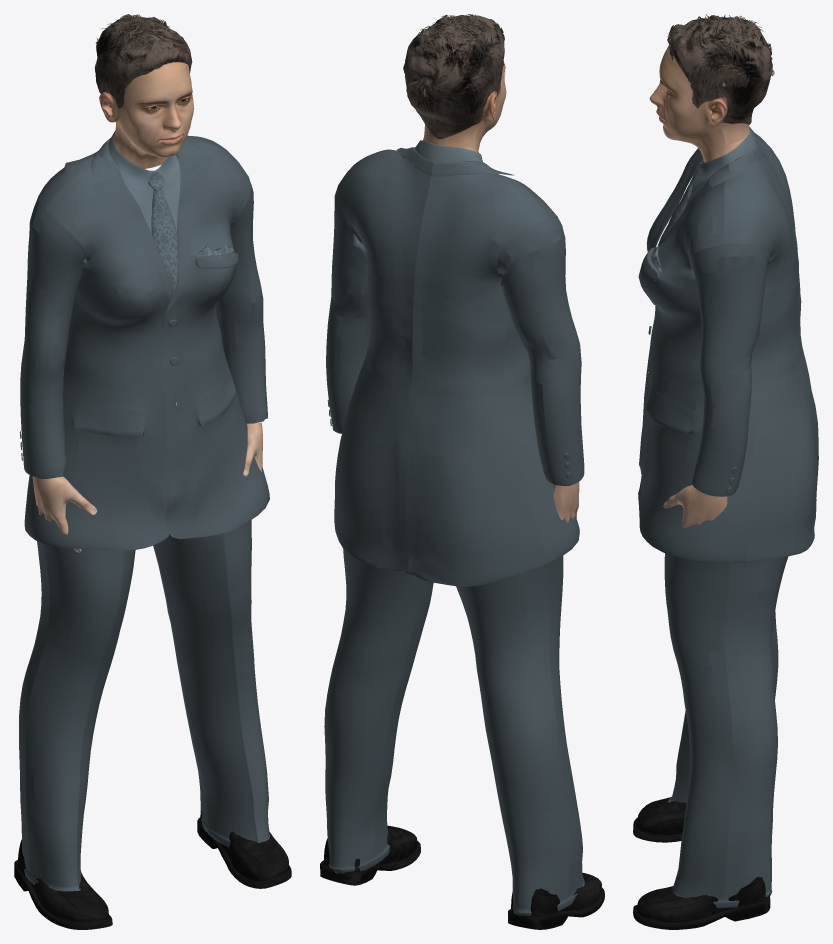
File: tailored-suit.glb
3 renders of one model, left to right at view 1: azimuth 30°, elevation 25°; view 2: azimuth 150°, elevation 25°; view 3: azimuth 270°, elevation 25°, orthographic. The views are drawn at different scales.
Parts seen in each view (by area): view 1: clothing, skin, shoes, hair; view 2: clothing, hair, shoes, skin; view 3: clothing, hair, skin, shoes.
Boxes of the visible parts, box(x1,y1,x2,y2) form: clothing: box(19, 130, 269, 891); skin: box(32, 62, 262, 552); shoes: box(14, 810, 291, 929); hair: box(94, 14, 192, 108); clothing: box(324, 140, 584, 915); hair: box(403, 14, 504, 138); shoes: box(320, 825, 604, 929); skin: box(423, 61, 579, 522); clothing: box(638, 127, 818, 908); hair: box(667, 14, 774, 124); skin: box(649, 44, 749, 528); shoes: box(633, 797, 770, 929).
Size of the model in its own units: 0.4689 by 1.61 by 0.316.
9 materials, 9 textured.
